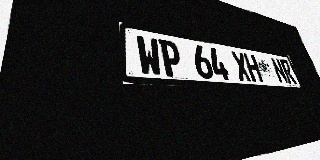4: (207, 47, 230, 80)
6: (191, 44, 215, 79)
H: (243, 53, 264, 82)
N: (270, 57, 289, 84)
P: (158, 39, 184, 78)
R: (279, 59, 297, 84)
W: (136, 35, 163, 76)
X: (230, 51, 252, 82)
